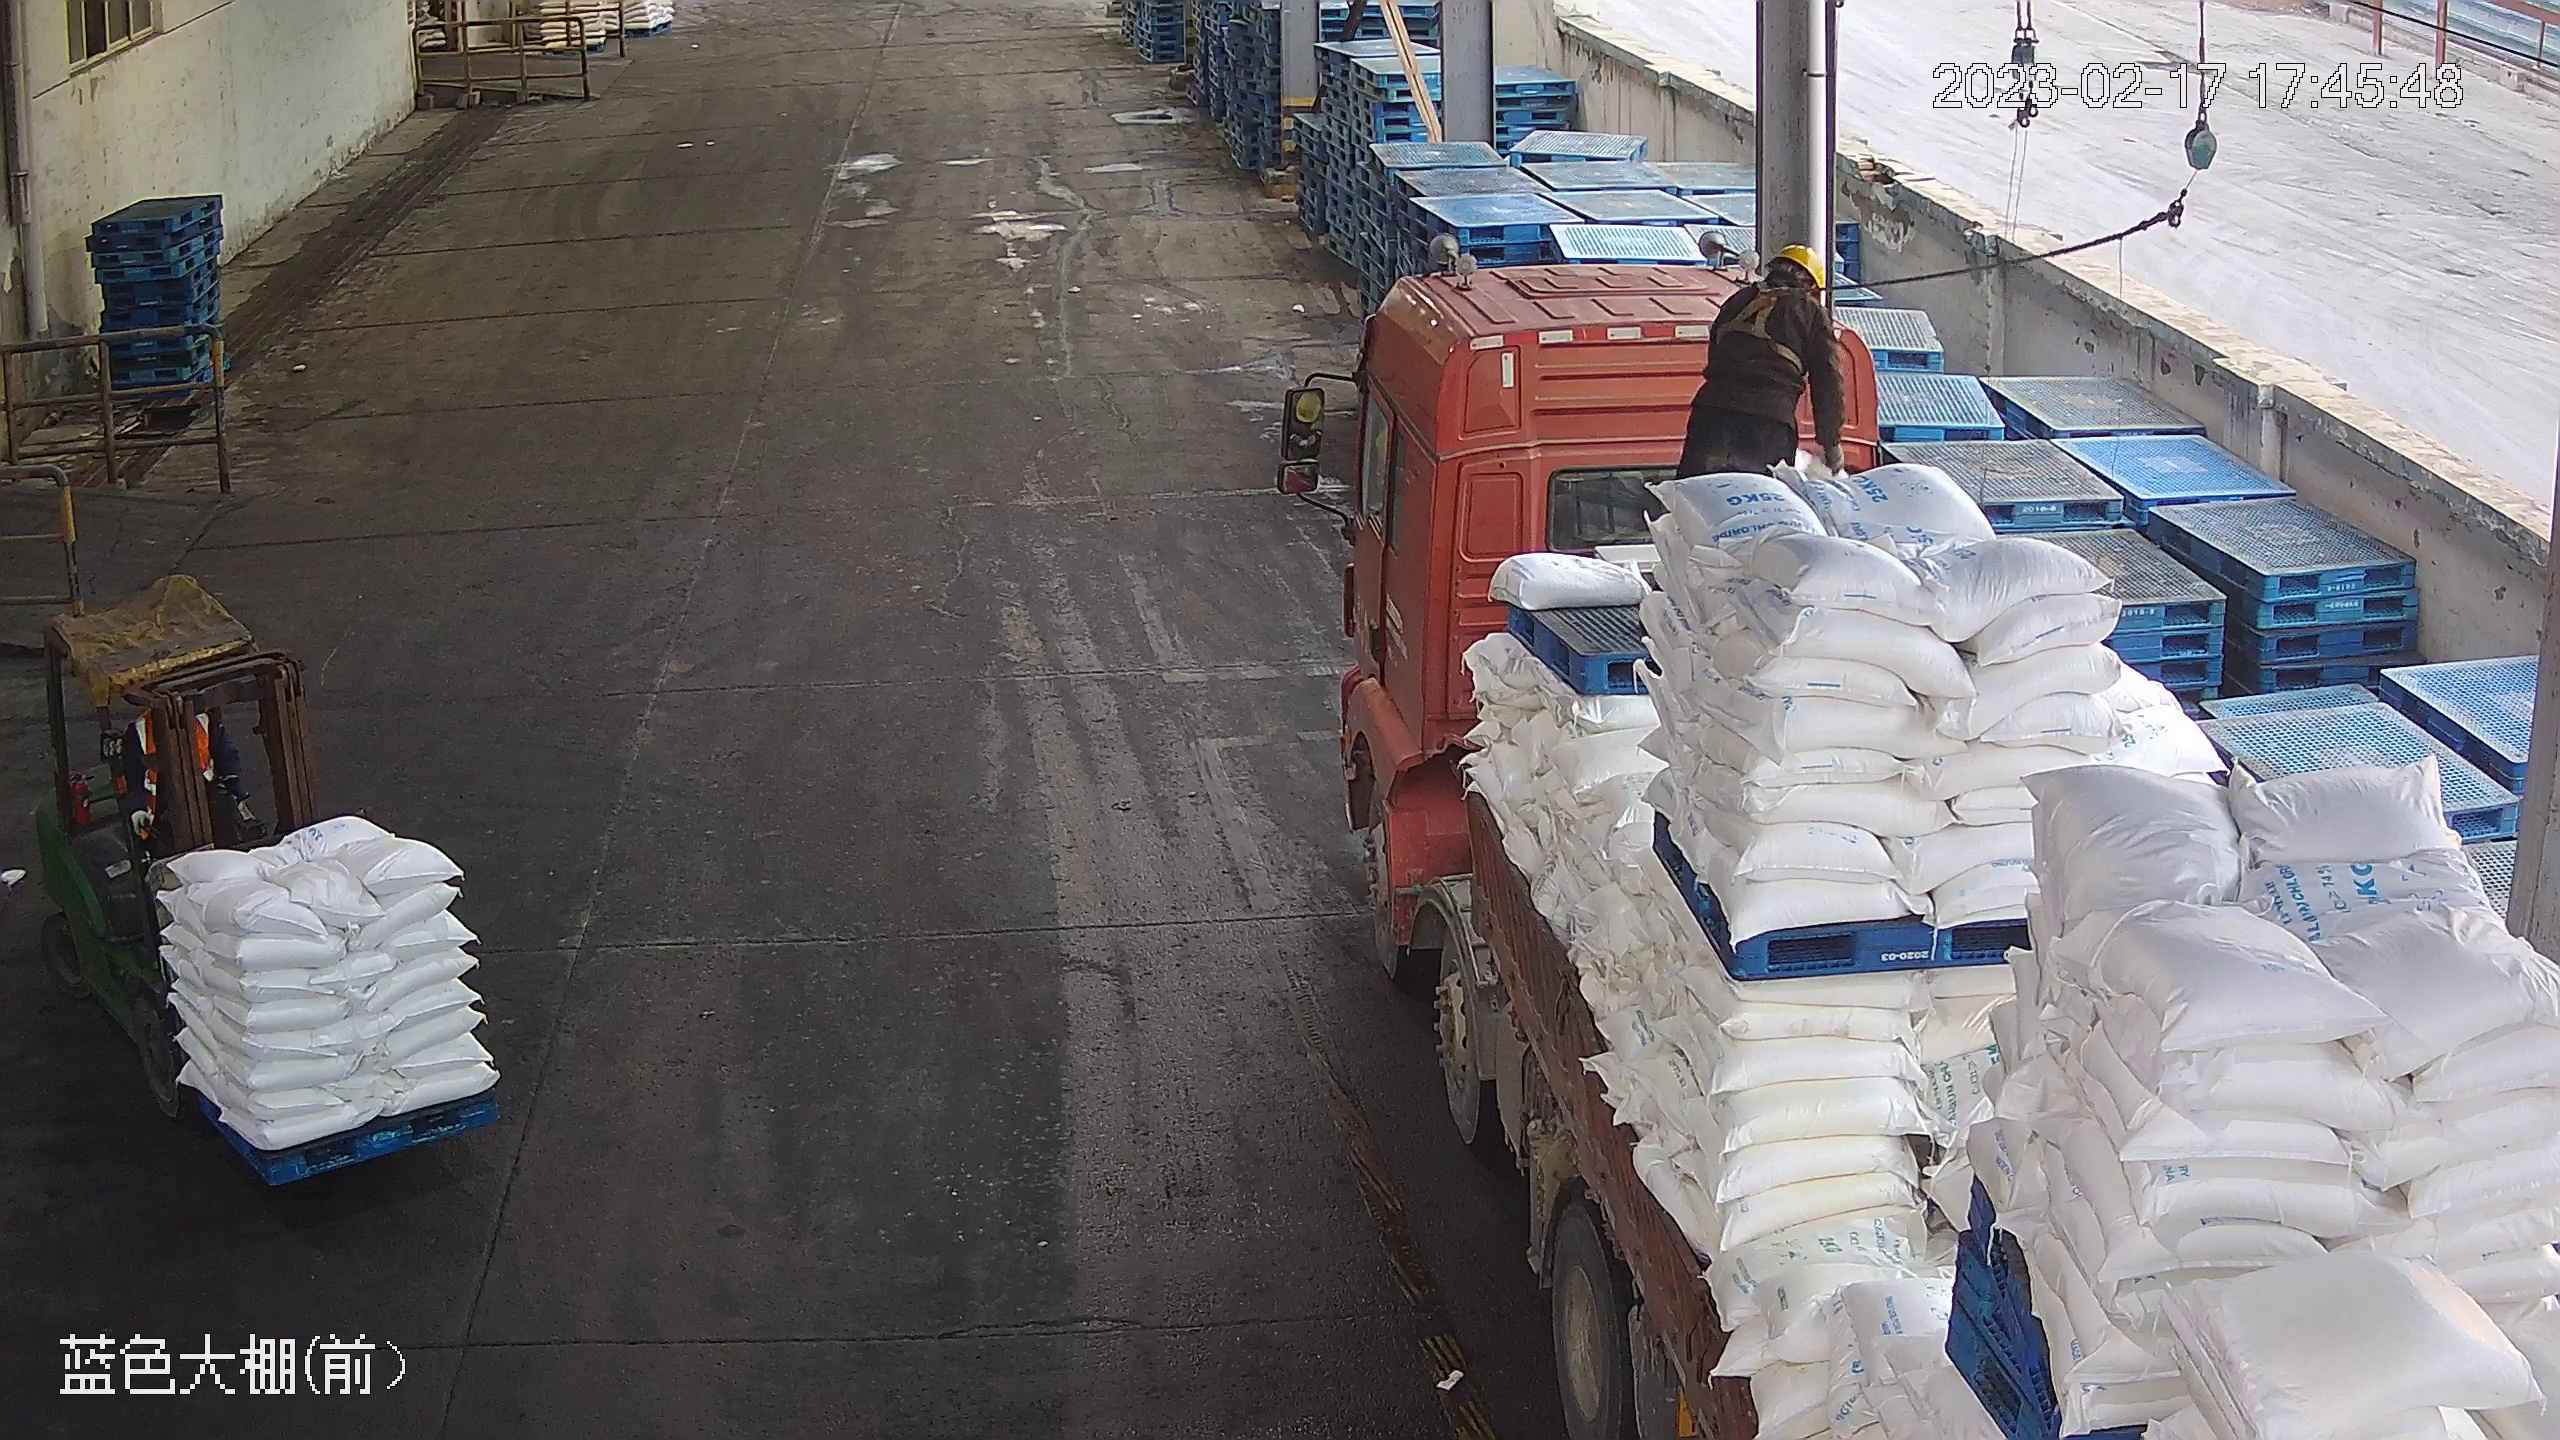belt: (1714, 279, 1799, 355)
head: (1725, 243, 1828, 332)
helmet: (1775, 241, 1825, 292)
people: (1671, 235, 1844, 480)
truck: (1279, 239, 2558, 1440)
